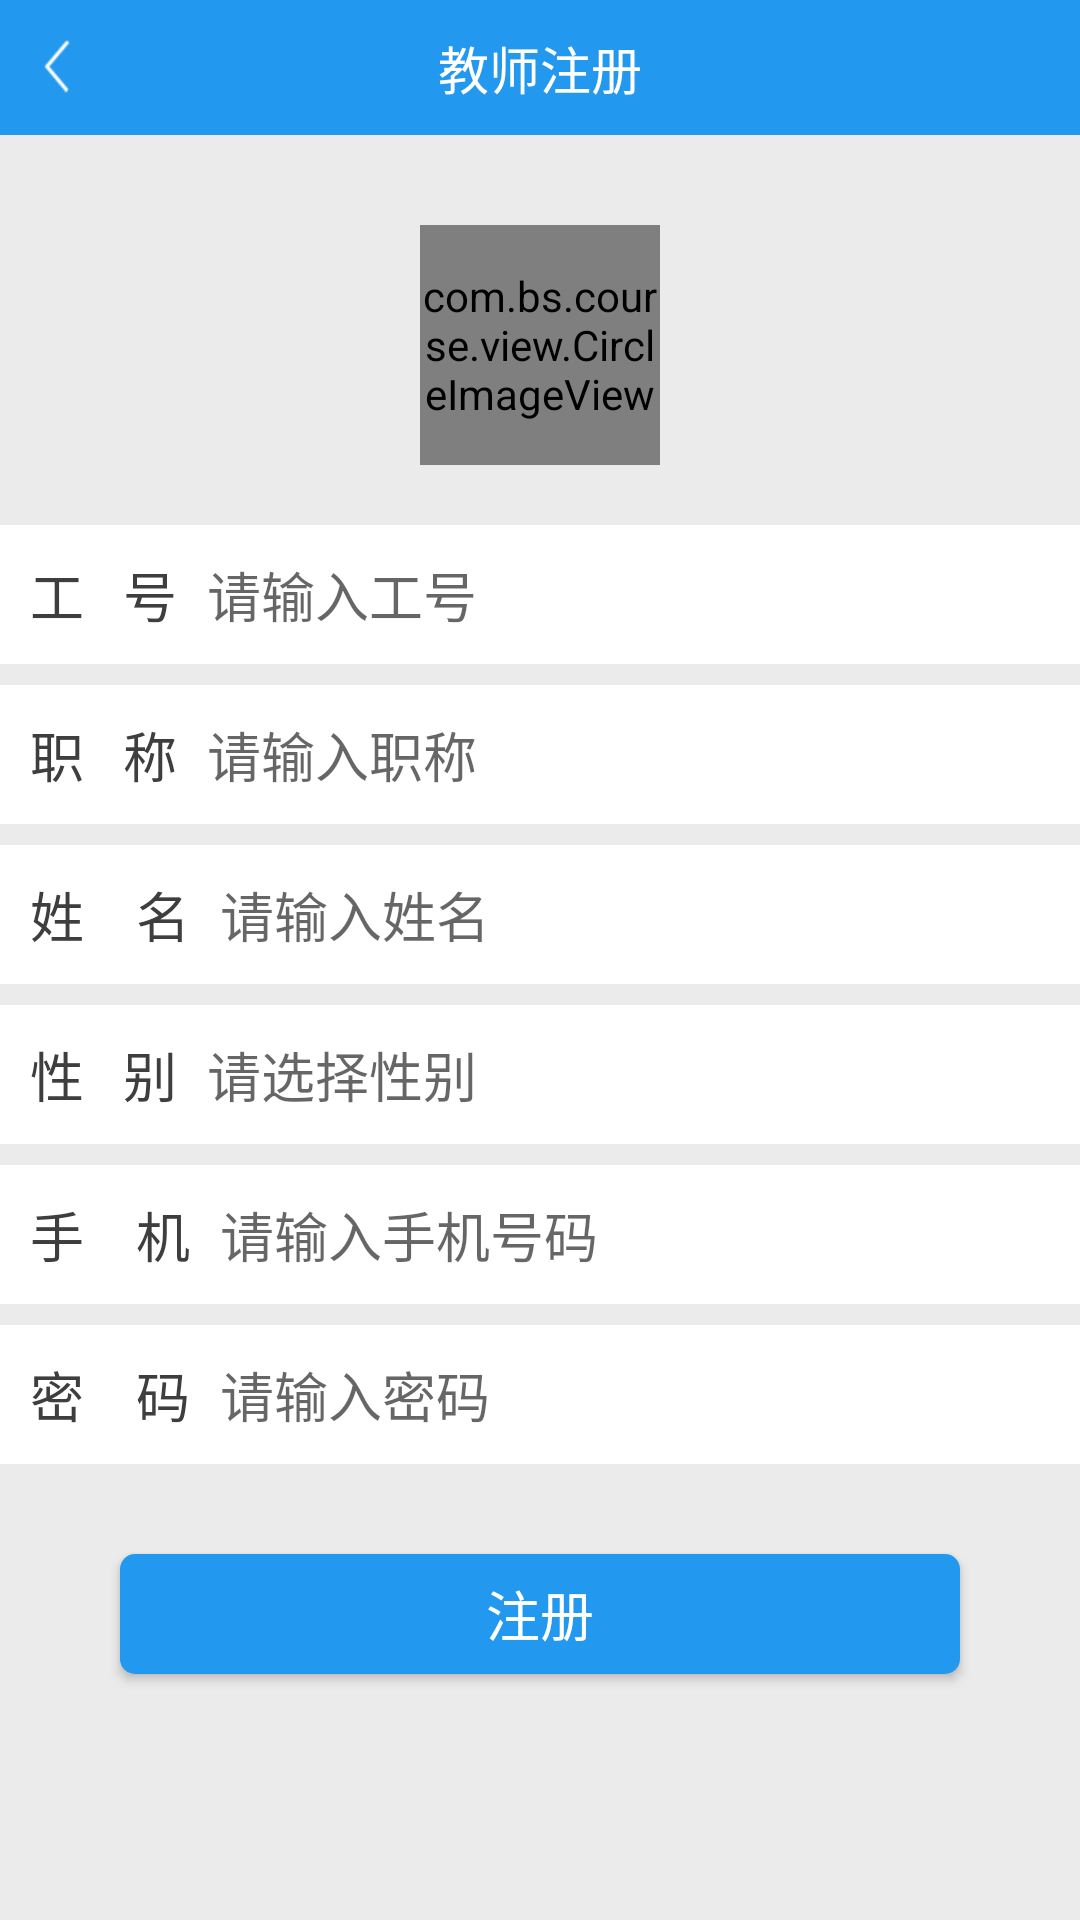

Icons on this 1080px x 1920px Android screen, each with the point to tap as (x,y):
im back: (57,66)
